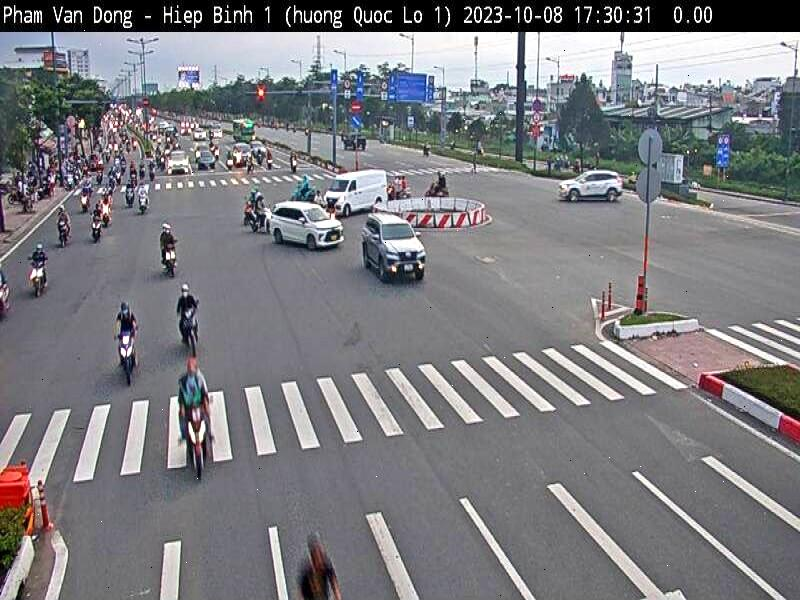car: (360, 213, 426, 284), (270, 200, 346, 251), (325, 169, 387, 218), (560, 168, 623, 205), (166, 148, 186, 176)
